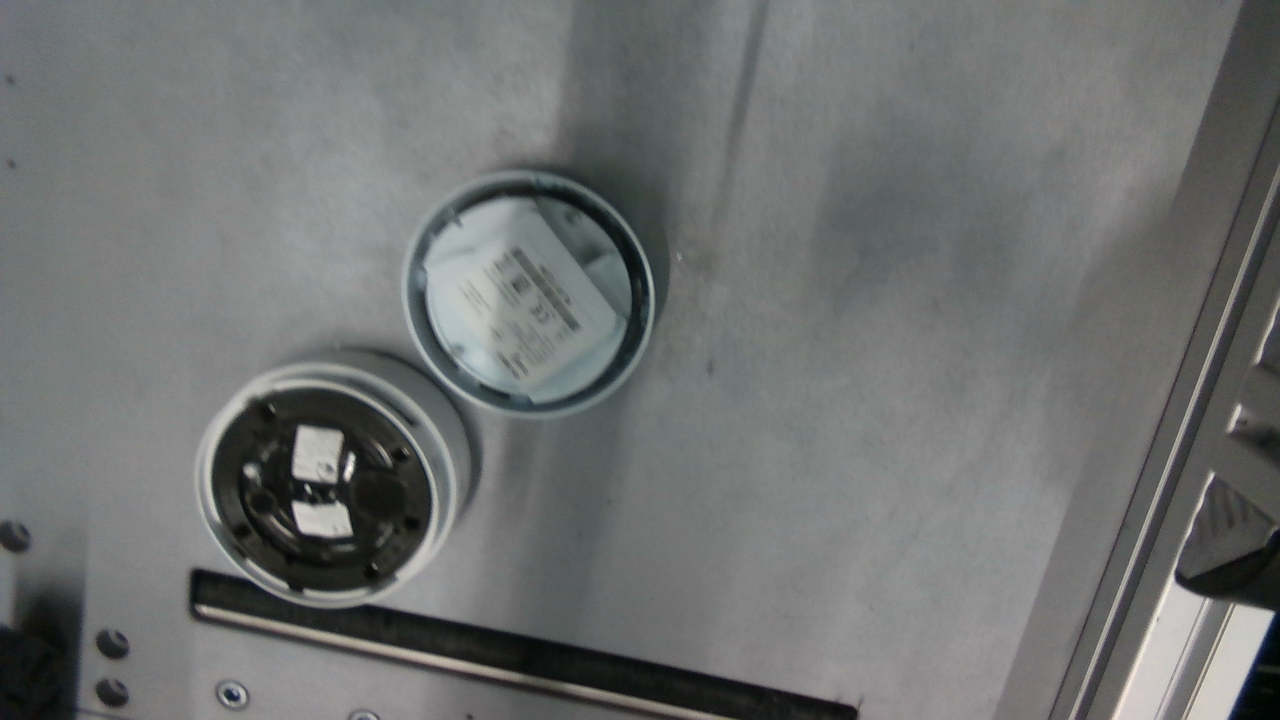HexScrew: (563, 208, 588, 232), (390, 447, 409, 463), (450, 343, 465, 360), (261, 402, 279, 415), (366, 563, 382, 574)
